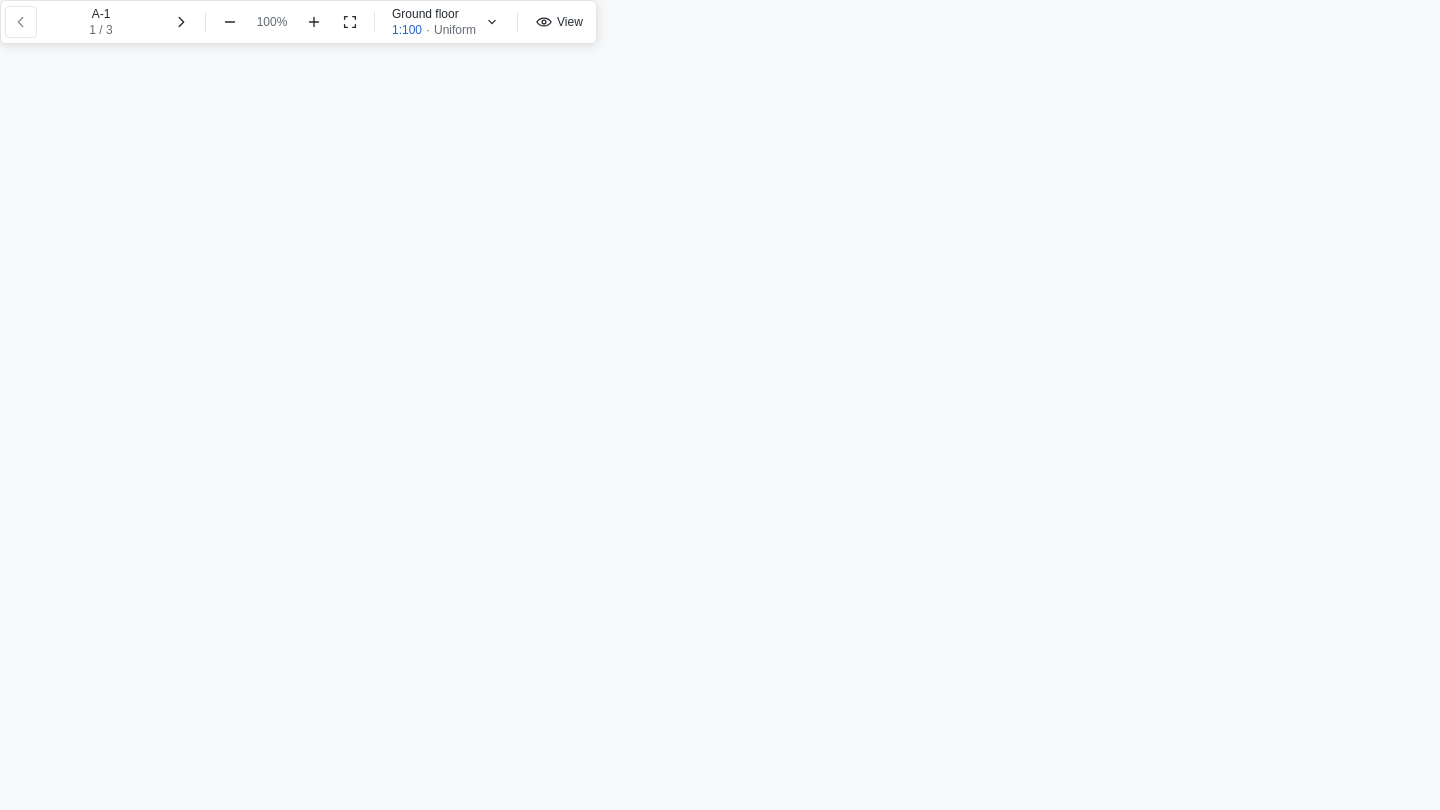
Scenario: ViewerDock › opens the page-label editor with focused selected effective content and source metadata
Click the button "A-1 1 / 3": (101, 22) [41,5,161,39]
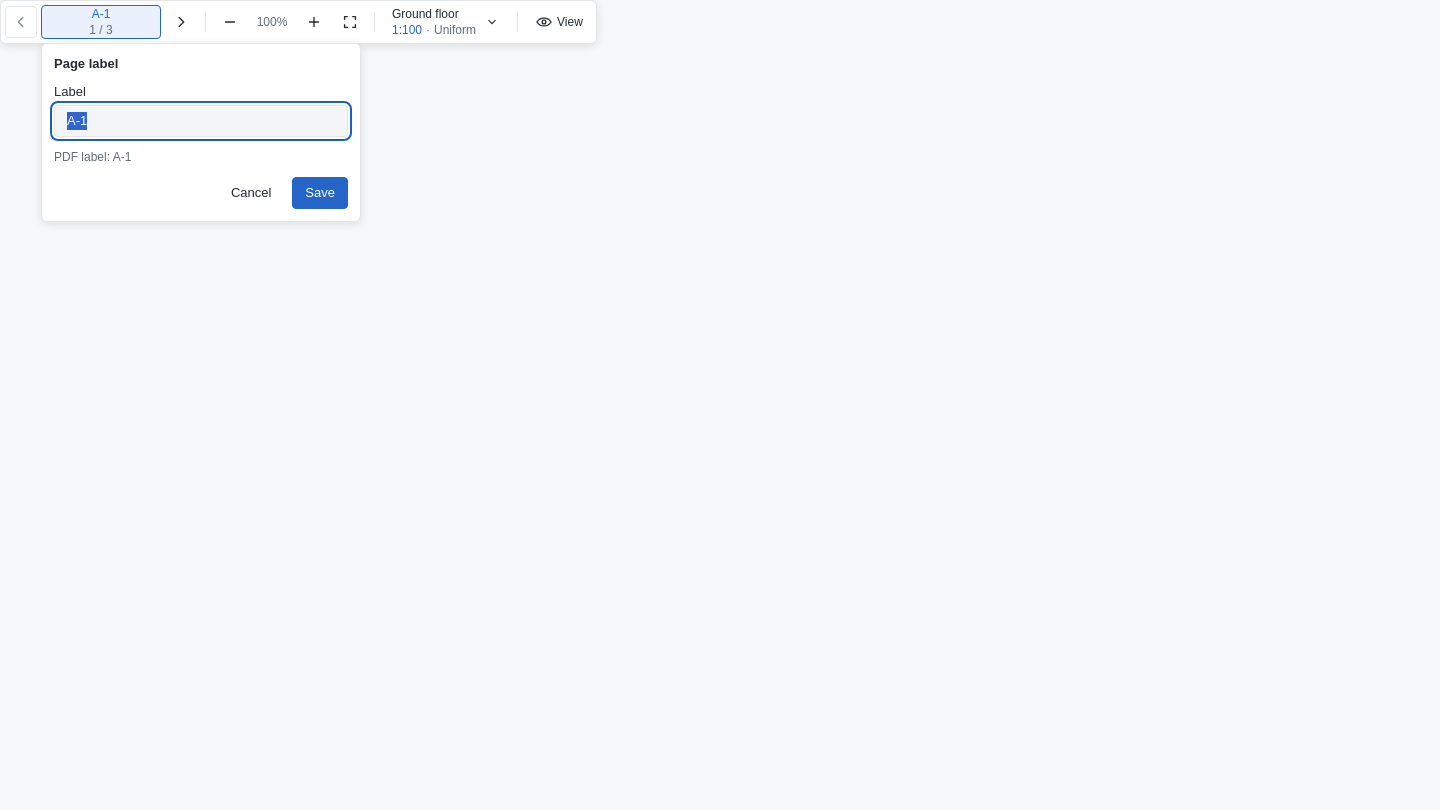
Check: the field labelled "Label" holds "A-1", box [54,105,348,137]
Check: the dialog named "Page label" shows "PDF label: A-1", box [41,43,361,222]
